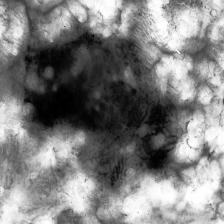Benign Marking or Mole: (14, 24, 180, 186)
